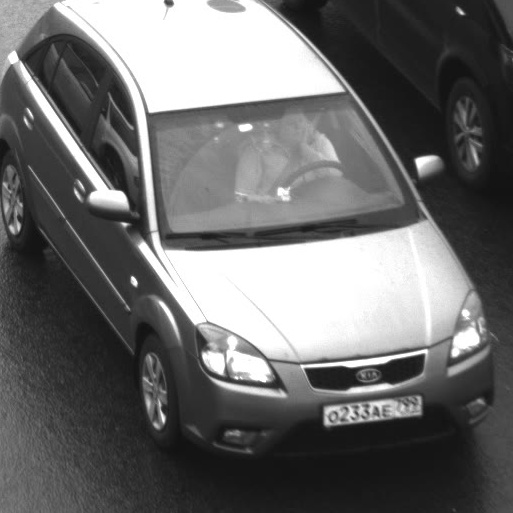plate: (313, 382, 431, 433)
